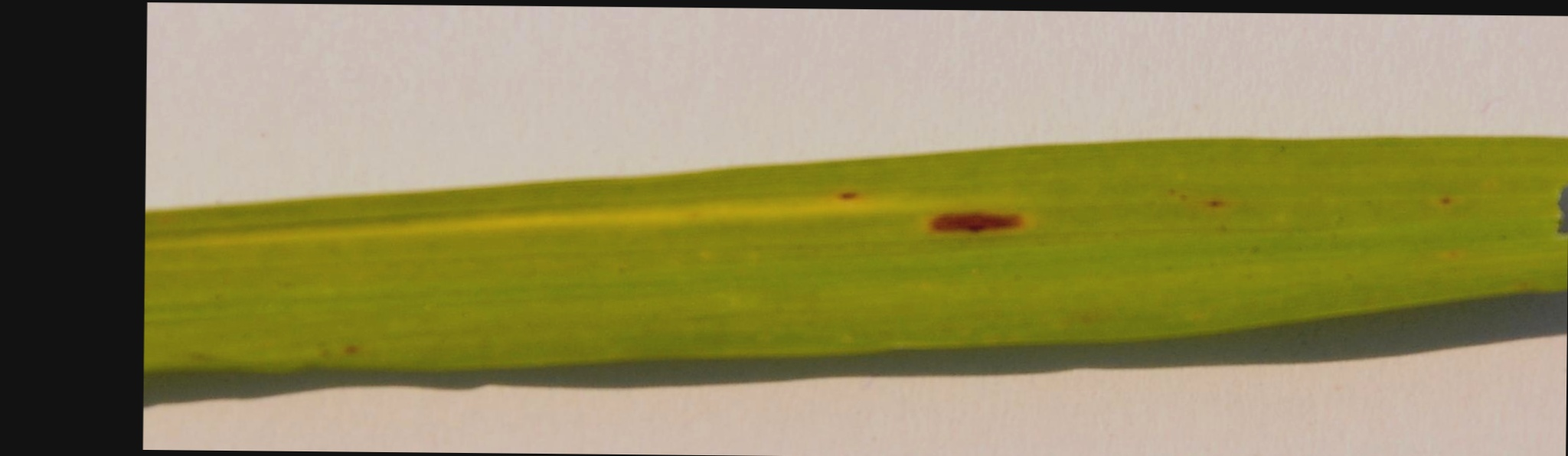Bacterial_Leaf_Blight: (895, 200, 1053, 235)
